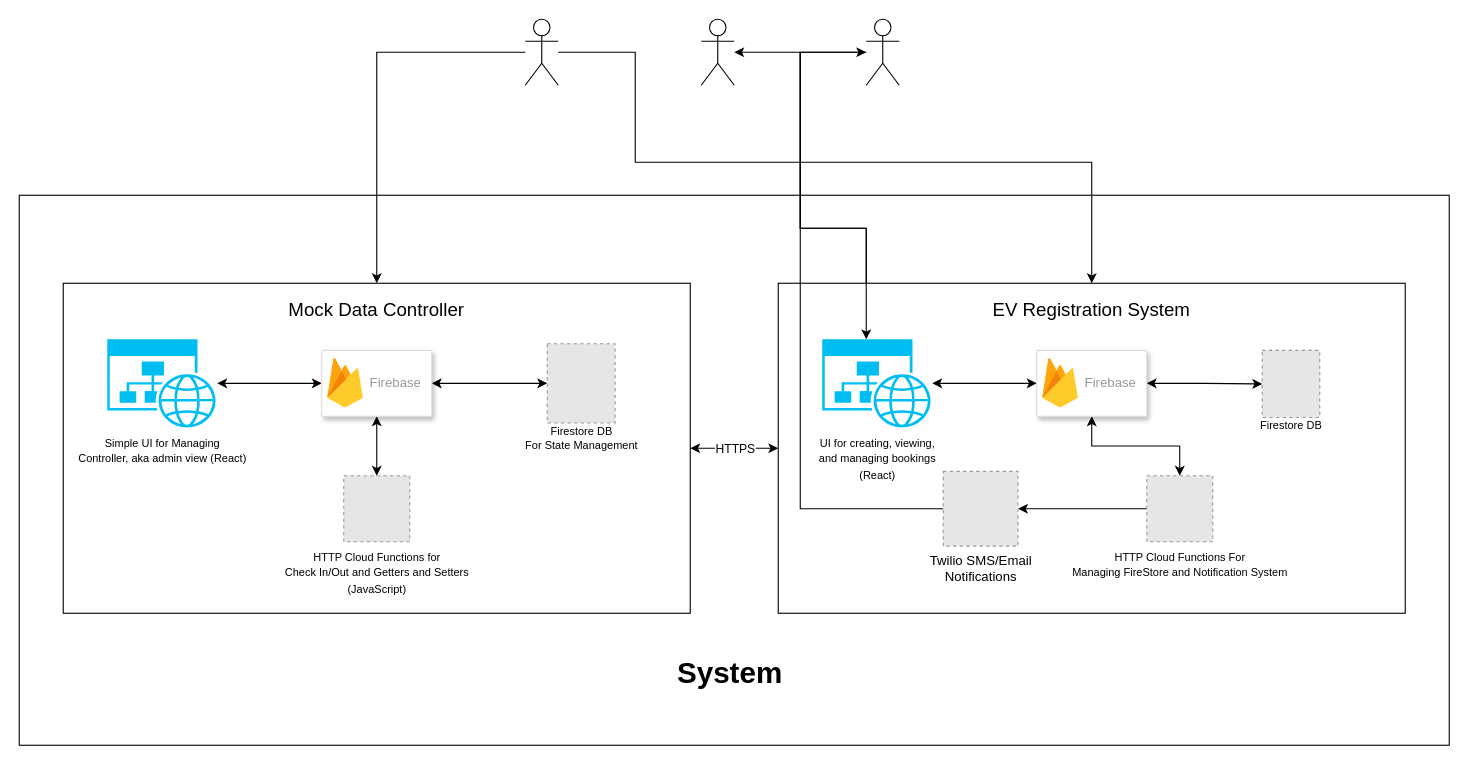
Image size: 1469x765. Some labels were removed from this diagram. Grey dashed boxes stand in for pictures. The shapes that lost their labels are listed below. From the top down, each one's centre as x and y in pixels, then its label:
point (541, 51): Admin
point (717, 51): Customer
point (882, 51): Security
